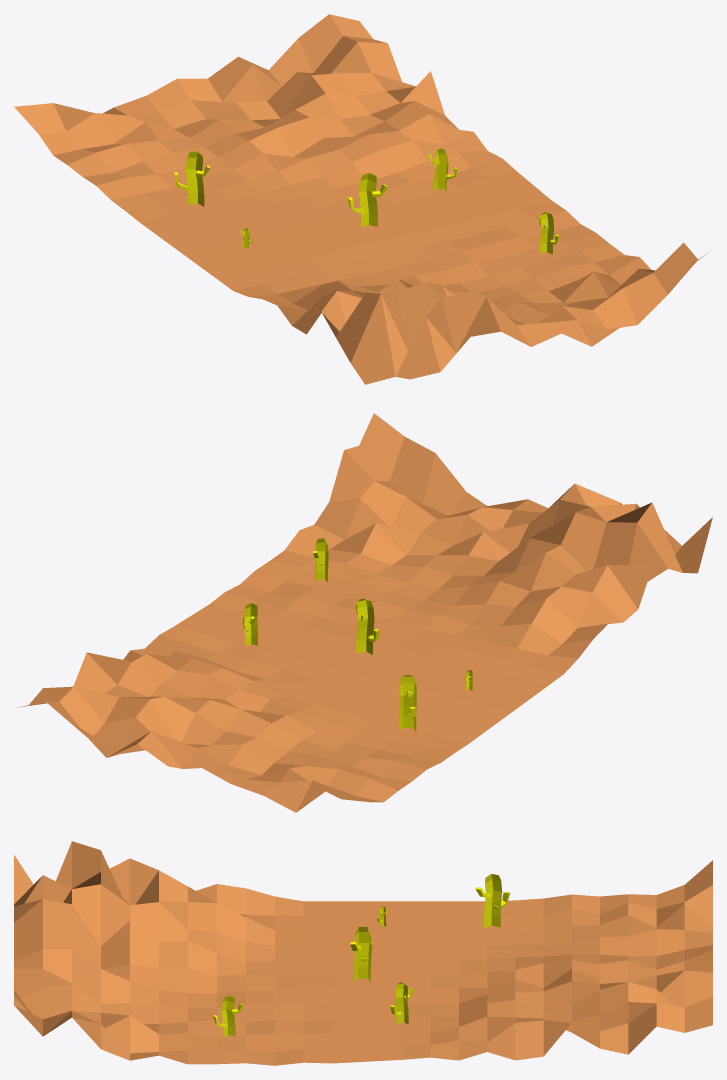
The model's file is Desert_scene.glb.
3 renders of one model, top to bottom at view 1: azimuth 30°, elevation 25°; view 2: azimuth 150°, elevation 25°; view 3: azimuth 270°, elevation 25°, orthographic. The views are drawn at different scales.
Size of the model in its own units: 45.04 by 10.24 by 79.86.
2 materials, 1 textured.
